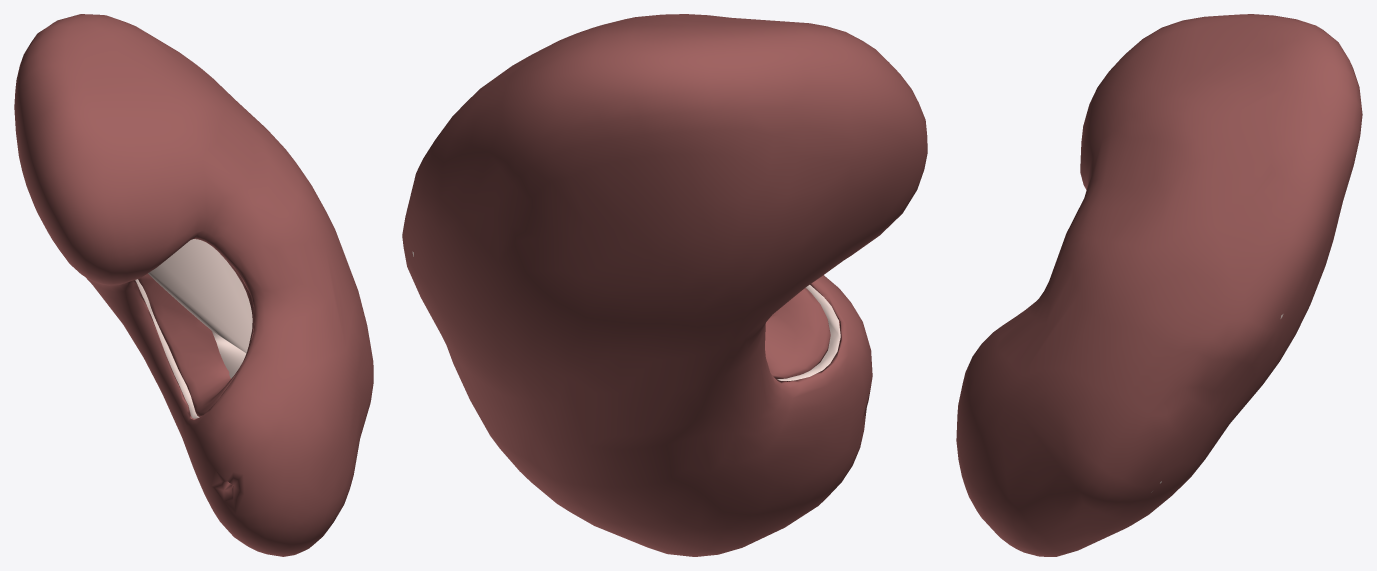
The model's file is vh_m_kidney_l-40.glb.
3 views of the same model, side by side, from view 1: azimuth 30°, elevation 25°; view 2: azimuth 150°, elevation 25°; view 3: azimuth 270°, elevation 25° (orthographic). The views are drawn at different scales.
Parts seen in each view (by area): view 1: VH_M_kidney_capsule_L, VH_M_renal_column_L, VH_M_hilum_of_kidney_L, VH_M_outer_cortex_of_kidney_L; view 2: VH_M_kidney_capsule_L, VH_M_hilum_of_kidney_L, VH_M_outer_cortex_of_kidney_L; view 3: VH_M_kidney_capsule_L.
Part boxes in pixels (left/top/right/bottom): VH_M_kidney_capsule_L: left=14, top=14, right=373, bottom=556; VH_M_renal_column_L: left=148, top=239, right=252, bottom=378; VH_M_hilum_of_kidney_L: left=138, top=238, right=254, bottom=417; VH_M_outer_cortex_of_kidney_L: left=135, top=279, right=199, bottom=418; VH_M_kidney_capsule_L: left=402, top=14, right=927, bottom=556; VH_M_hilum_of_kidney_L: left=765, top=288, right=830, bottom=379; VH_M_outer_cortex_of_kidney_L: left=412, top=251, right=840, bottom=380; VH_M_kidney_capsule_L: left=956, top=14, right=1362, bottom=556.
Size of the model in its own units: 0.0757 by 0.1065 by 0.0824.
